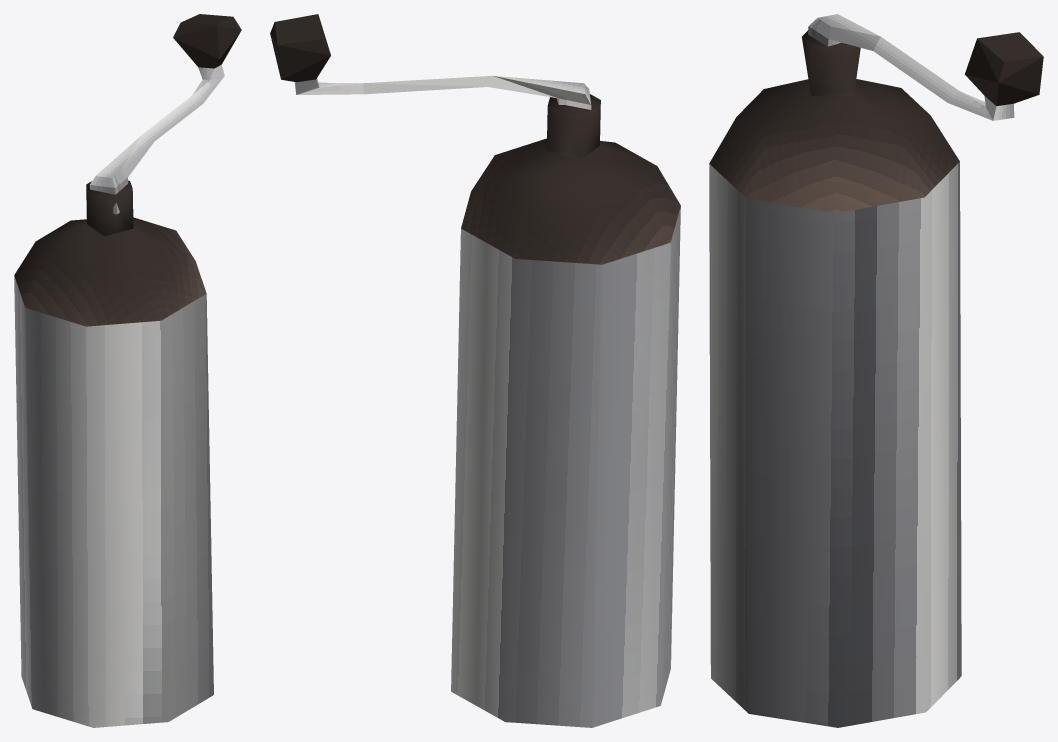
The model's file is H_CoffeeGrinder.fbx.
3 renders of one model, left to right at view 1: azimuth 30°, elevation 25°; view 2: azimuth 150°, elevation 25°; view 3: azimuth 270°, elevation 25°, orthographic. The views are drawn at different scales.
Parts seen in each view (by area): view 1: CoffeGrinder; view 2: CoffeGrinder; view 3: CoffeGrinder.
Boxes of the visible parts, left/top/right/bottom form: CoffeGrinder: left=14, top=14, right=241, bottom=727; CoffeGrinder: left=270, top=14, right=680, bottom=727; CoffeGrinder: left=709, top=14, right=1043, bottom=727.
Size of the model in its own units: 20.97 by 41.42 by 17.04.
